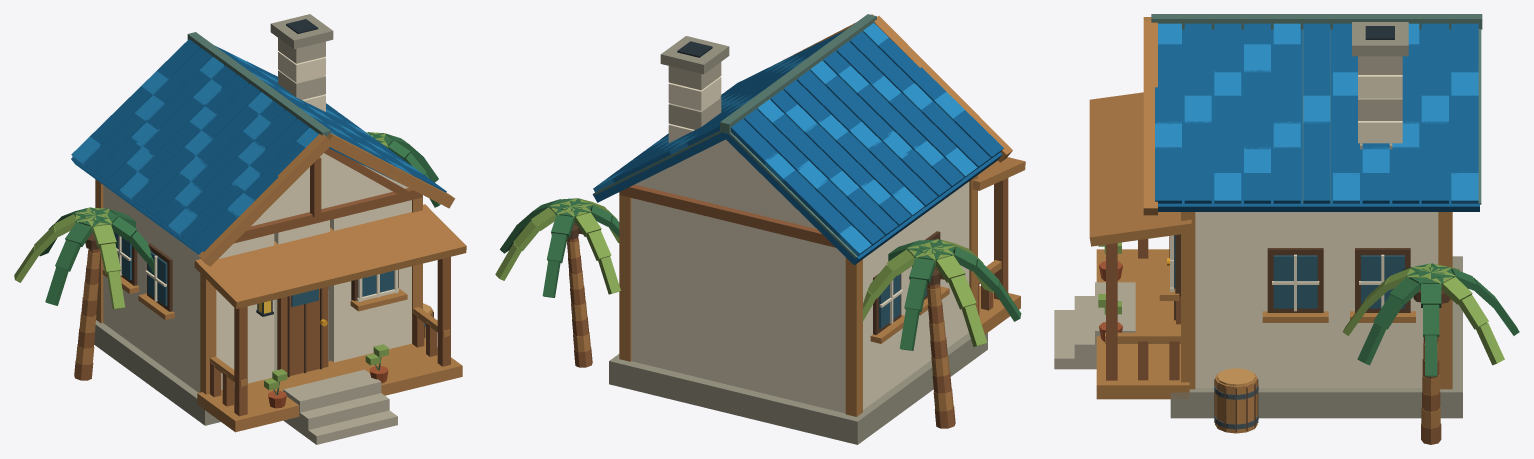
Rendered from main_cottage.glb.
The picture shows the model from 3 angles, left to right: view 1: azimuth 30°, elevation 25°; view 2: azimuth 150°, elevation 25°; view 3: azimuth 270°, elevation 25°; orthographic projection. The views are drawn at different scales.
Visible parts, largest first — view 1: body__wood2, body__cream, body__ocean, body__wood, body__ocean2, body__stone2, body__stone, front_door__wood, palm_left__green, palm_left__leaf2, body__slate2, body__glass (+7 smaller); view 2: body__cream, body__ocean, body__stone, body__wood2, body__ocean2, body__wood, palm_left__green, palm_left__leaf2, body__slate2, palm_right__leaf2, palm_right__green, body__stone2 (+5 smaller); view 3: body__ocean, body__cream, body__wood2, body__ocean2, body__stone, body__stone2, body__slate2, palm_right__green, body__glass, body__wood_dark, palm_right__leaf2, body__wood (+4 smaller).
Part boxes in pixels (x1,y1,x2,y2): body__wood2: [95, 133, 466, 432]; body__cream: [103, 51, 411, 392]; body__ocean: [71, 39, 446, 254]; body__wood: [210, 148, 450, 416]; body__ocean2: [71, 53, 422, 235]; body__stone2: [278, 38, 397, 444]; body__stone: [94, 14, 333, 425]; front_door__wood: [277, 287, 328, 376]; palm_left__green: [39, 207, 154, 305]; palm_left__leaf2: [14, 207, 125, 309]; body__slate2: [72, 32, 330, 246]; body__glass: [113, 232, 393, 306]; body__cream: [631, 77, 969, 413]; body__ocean: [592, 29, 1003, 265]; body__stone: [609, 36, 987, 444]; body__wood2: [619, 14, 1025, 416]; body__ocean2: [593, 23, 977, 256]; body__wood: [620, 178, 1008, 316]; palm_left__green: [888, 239, 1021, 350]; palm_left__leaf2: [862, 239, 993, 346]; body__slate2: [594, 14, 991, 258]; palm_right__leaf2: [495, 198, 620, 294]; palm_right__green: [500, 198, 619, 297]; body__stone2: [668, 62, 721, 129]; body__ocean: [1155, 23, 1479, 211]; body__cream: [1170, 75, 1438, 387]; body__wood2: [1089, 17, 1452, 433]; body__ocean2: [1155, 23, 1478, 203]; body__stone: [1170, 22, 1462, 418]; body__stone2: [1054, 56, 1402, 369]; body__slate2: [1151, 14, 1482, 204]; palm_right__green: [1357, 263, 1519, 376]; body__glass: [1174, 235, 1404, 308]; body__wood_dark: [1175, 234, 1410, 431]; palm_right__leaf2: [1343, 263, 1504, 365]; body__wood: [1106, 236, 1179, 380].
Bounding box in the file's own units: 7.23 × 4.7 × 5.5.
